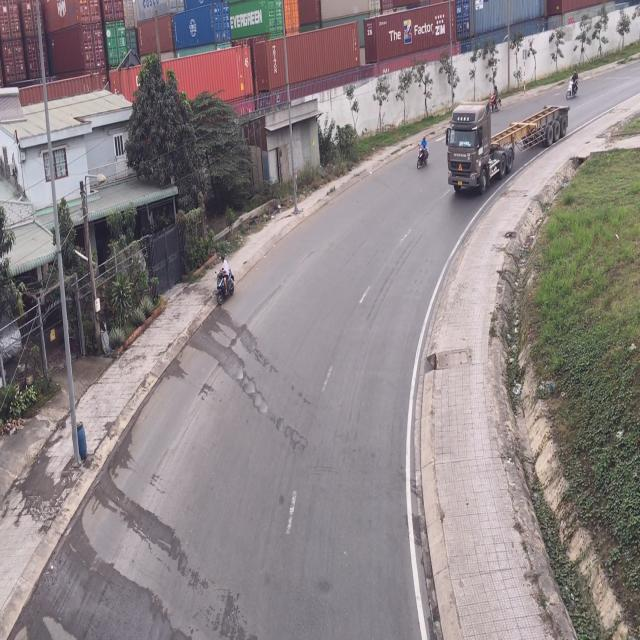motorbike: (214, 258, 234, 308), (418, 134, 430, 171), (489, 78, 501, 115), (566, 64, 578, 100)
truck: (445, 101, 570, 196)
